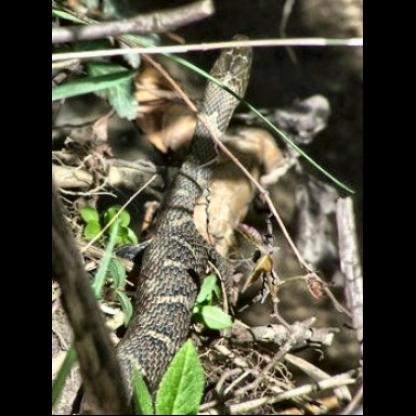Snake: (90, 163, 226, 385)
